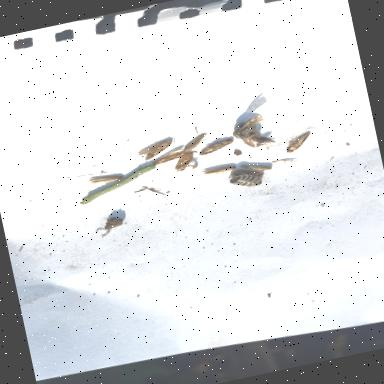pbw: (132, 134, 180, 163), (280, 128, 318, 155), (195, 134, 237, 158), (150, 146, 192, 168), (169, 151, 200, 175), (237, 158, 274, 178), (180, 130, 211, 153), (86, 171, 124, 189), (198, 162, 238, 178)
